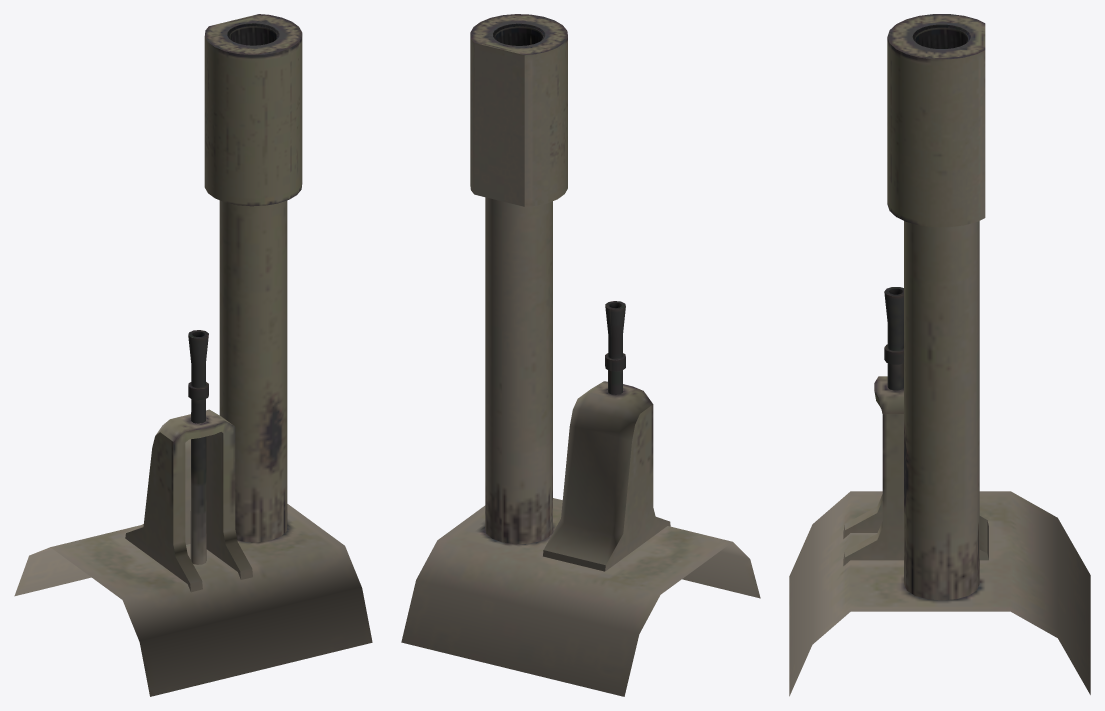
Rendered from Gun_02.glb.
3 renders of one model, left to right at view 1: azimuth 30°, elevation 25°; view 2: azimuth 150°, elevation 25°; view 3: azimuth 270°, elevation 25°, orthographic. The views are drawn at different scales.
Parts seen in each view (by area): view 1: set_0_group_0; view 2: set_0_group_0; view 3: set_0_group_0.
Part boxes in pixels (box(x1,y1,x2,y2)): set_0_group_0: box(14, 14, 372, 696); set_0_group_0: box(401, 14, 760, 696); set_0_group_0: box(789, 14, 1090, 696).
Bounding box in the file's own units: 0.5352 × 1.31 × 0.5654.
1 material, 1 textured.
